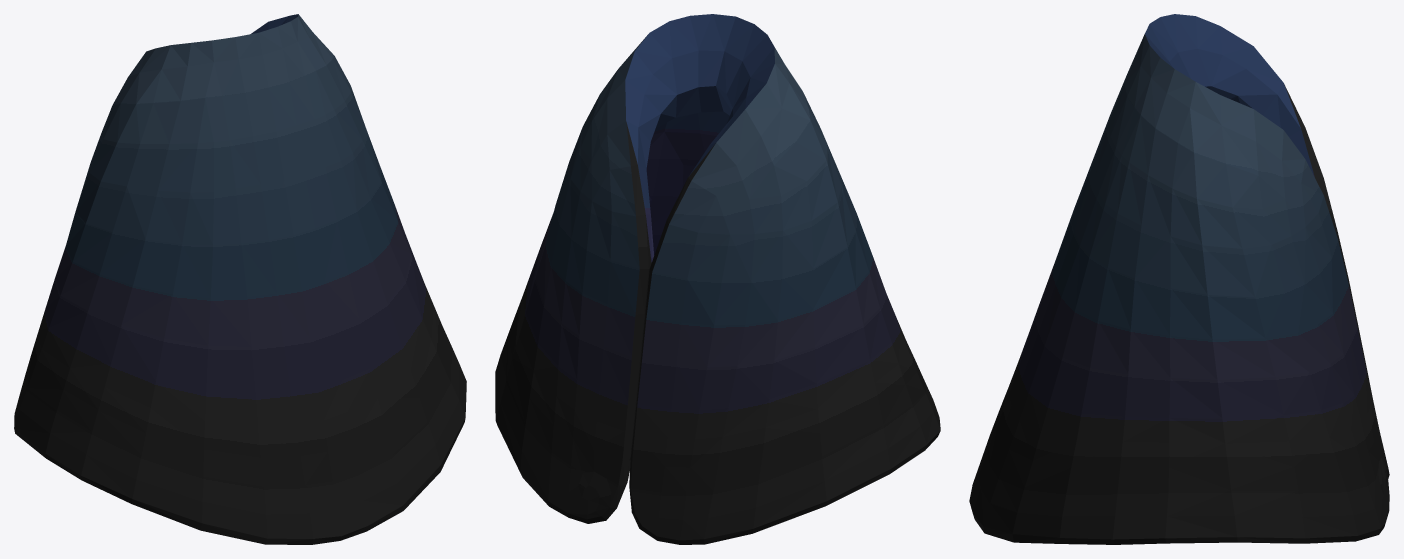
File: CharSkyKid_Wing_AP31Starry.glb
3 views of the same model, side by side, from view 1: azimuth 30°, elevation 25°; view 2: azimuth 150°, elevation 25°; view 3: azimuth 270°, elevation 25° (orthographic). The views are drawn at different scales.
Parts seen in each view (by area): view 1: CharSkyKid_Wing_AP31Starry; view 2: CharSkyKid_Wing_AP31Starry; view 3: CharSkyKid_Wing_AP31Starry.
Part boxes in pixels (x1,y1,x2,y2): CharSkyKid_Wing_AP31Starry: [14, 14, 466, 544]; CharSkyKid_Wing_AP31Starry: [495, 14, 940, 544]; CharSkyKid_Wing_AP31Starry: [969, 14, 1389, 544].
Bounding box in the file's own units: 6.42 × 6.75 × 5.43.
1 material, 1 textured.
